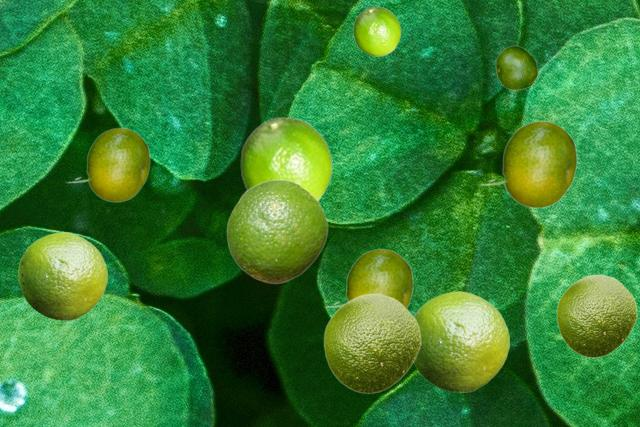calamansi: (226, 179, 327, 283), (323, 293, 420, 393), (414, 291, 508, 391), (477, 120, 576, 207), (240, 116, 332, 202), (18, 232, 106, 319), (556, 274, 636, 357), (65, 127, 149, 201), (323, 248, 412, 308), (353, 6, 400, 55), (495, 45, 537, 89)
